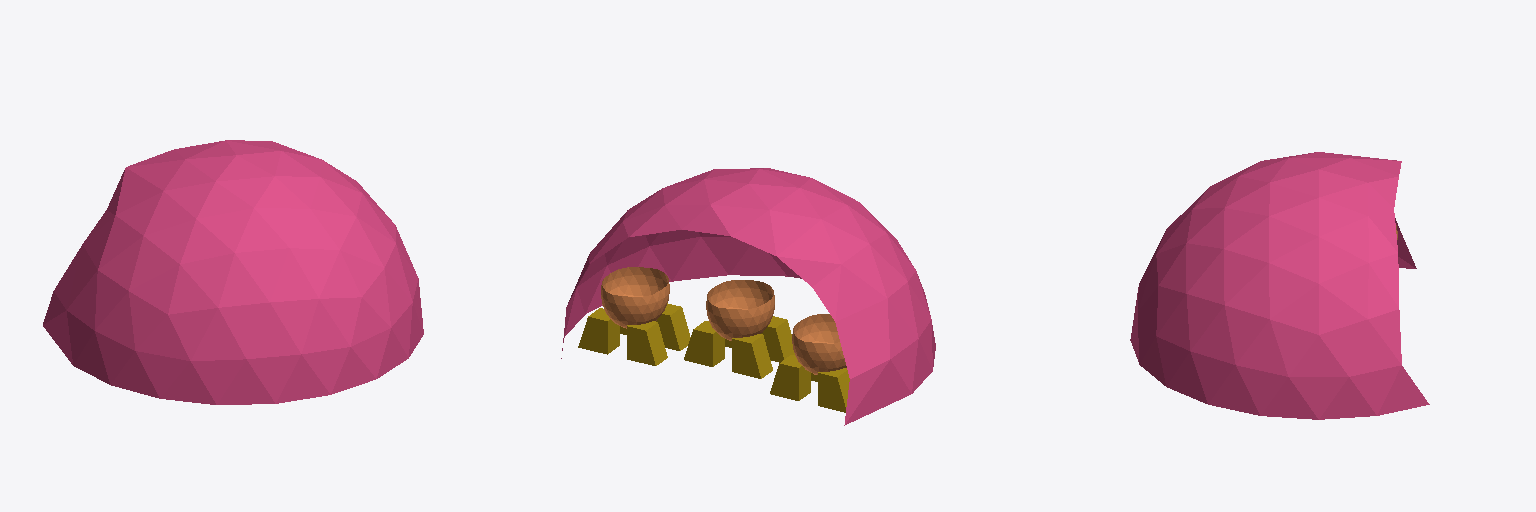
The model's file is Gold.obj.
The picture shows the model from 3 angles: view 1: azimuth 30°, elevation 25°; view 2: azimuth 150°, elevation 25°; view 3: azimuth 270°, elevation 25°; orthographic projection.
Visible parts, largest first — view 1: GeoSphere002; view 2: GeoSphere002, GeoSphere003, GeoSphere005, GeoSphere004, Box010, Box001, Box003, Box009, Box008, Box006, Box002, Box011; view 3: GeoSphere002.
Part boxes in pixels (left/top/right/bottom): GeoSphere002: left=43, top=140, right=423, bottom=404; GeoSphere002: left=561, top=168, right=935, bottom=425; GeoSphere003: left=601, top=267, right=669, bottom=328; GeoSphere005: left=706, top=280, right=774, bottom=340; GeoSphere004: left=792, top=314, right=846, bottom=374; Box010: left=732, top=334, right=772, bottom=378; Box001: left=627, top=321, right=667, bottom=365; Box003: left=578, top=308, right=619, bottom=354; Box009: left=684, top=321, right=724, bottom=366; Box008: left=770, top=355, right=810, bottom=400; Box006: left=818, top=368, right=849, bottom=412; Box002: left=656, top=303, right=690, bottom=350; Box011: left=761, top=316, right=794, bottom=362; GeoSphere002: left=1130, top=152, right=1429, bottom=419.
Size of the model in its own units: 54.61 by 27.68 by 43.35.